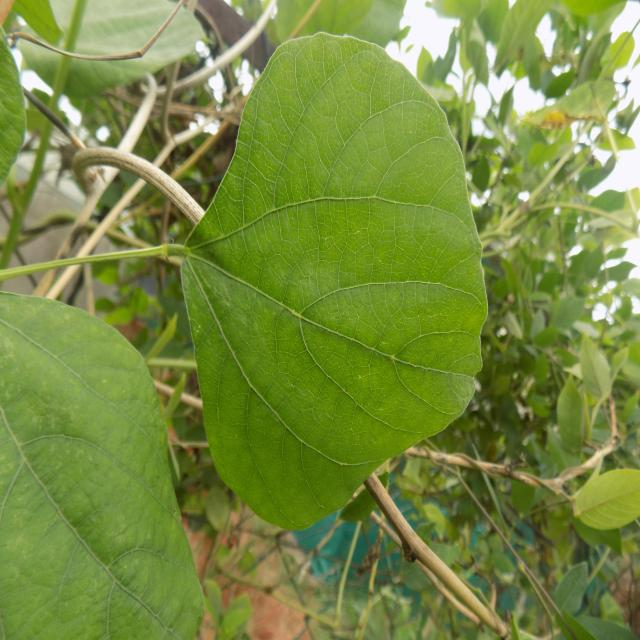Dolicos bean_healthy: (173, 30, 490, 535), (0, 292, 204, 640)
